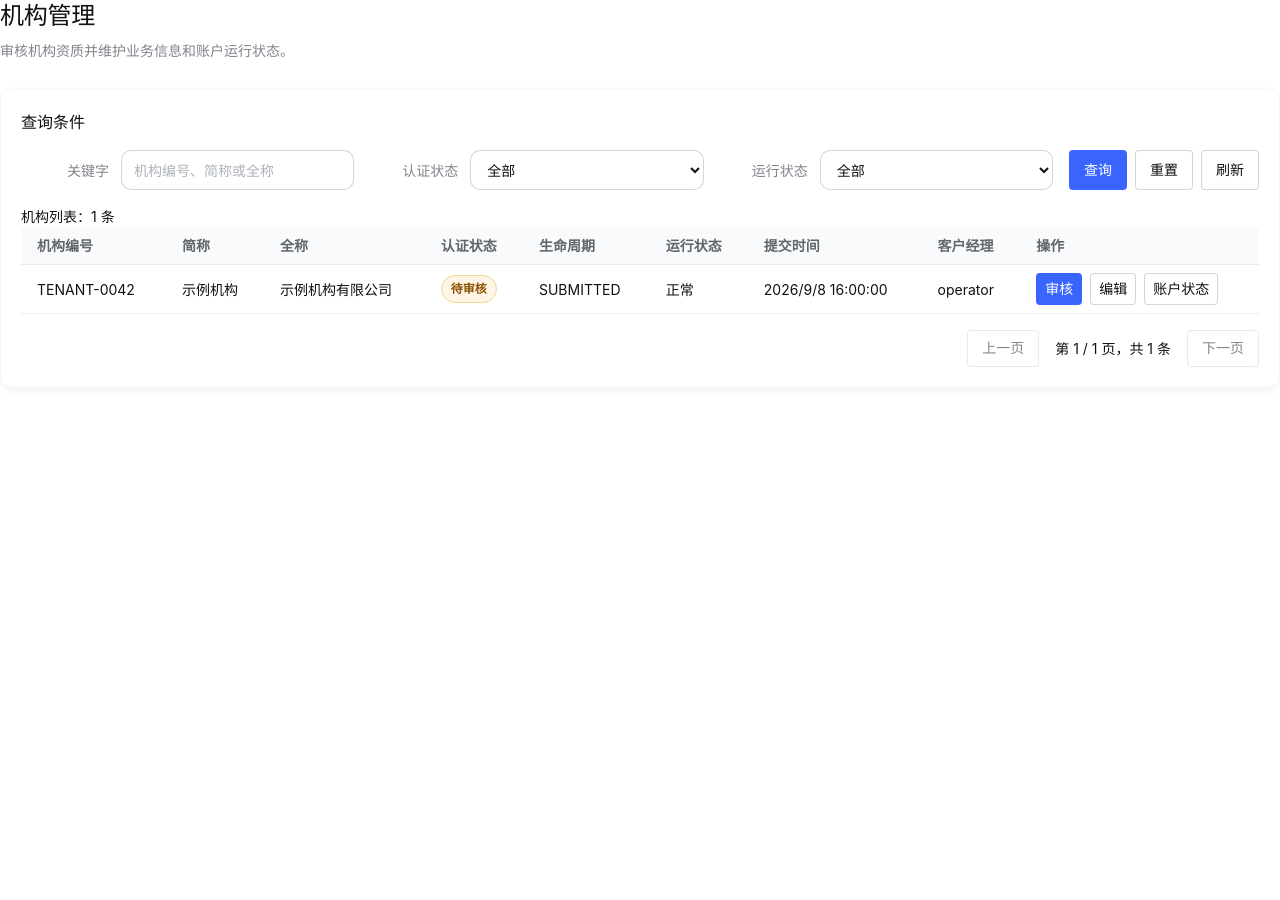
Test case: Phase 08 tenant qualification production UI › shows permission-scoped admin actions and submits an attributable human-confirmed decision
Check: the row with test id "admin-tenant-qualification-tenants-row" is shown, box [21,264,1259,314]
Click the button with test id "admin-tenant-qualification-tenants-review-open". click: (1059, 289)
box: [1036,273,1082,305]
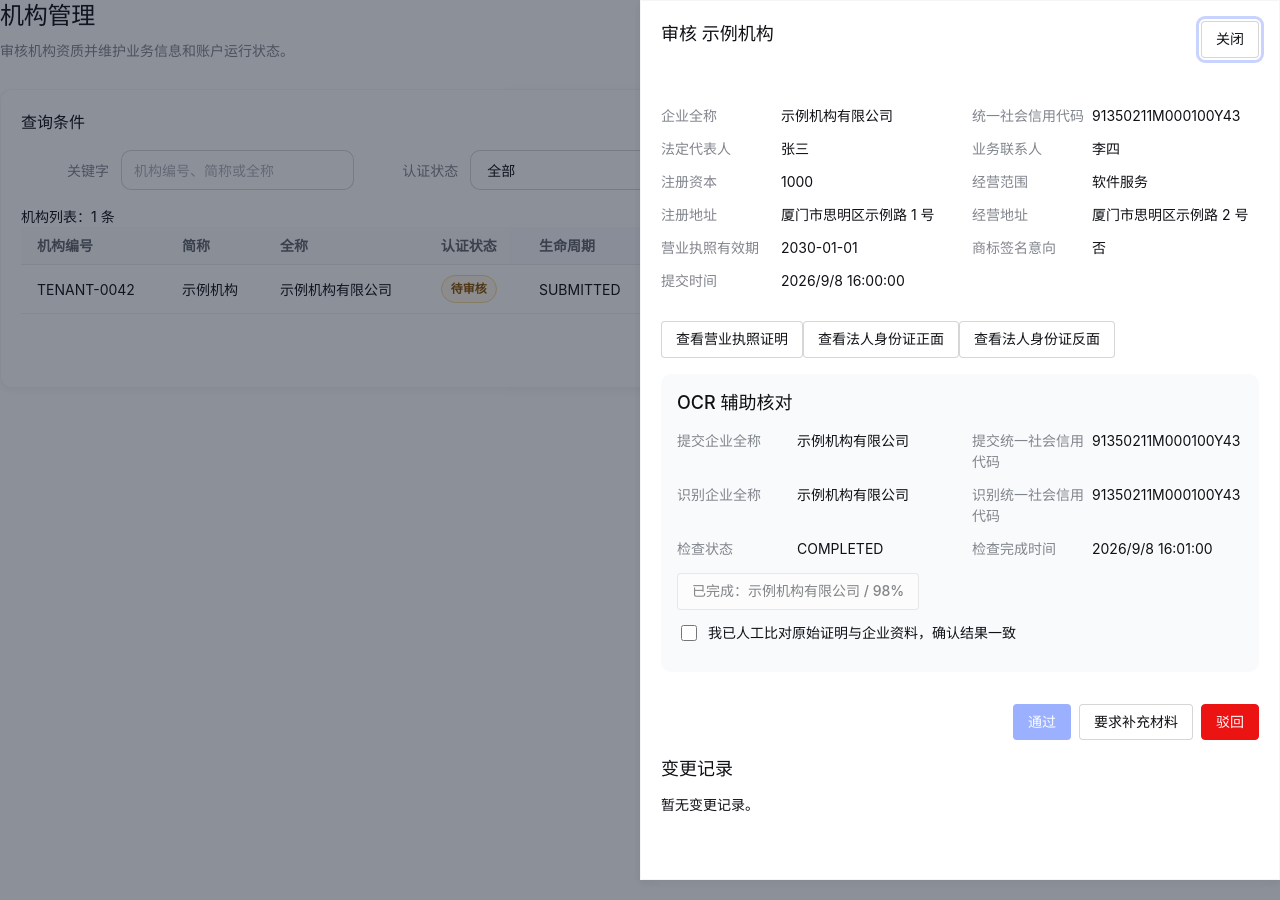
Check: the button with test id "admin-tenant-qualification-tenants-review-ocr-status" shows "已完成", box [677,573,919,610]
Click the checkbox with test id "admin-tenant-qualification-tenants-review-human-confirmed". click: (689, 633)
box: [681,625,697,641]
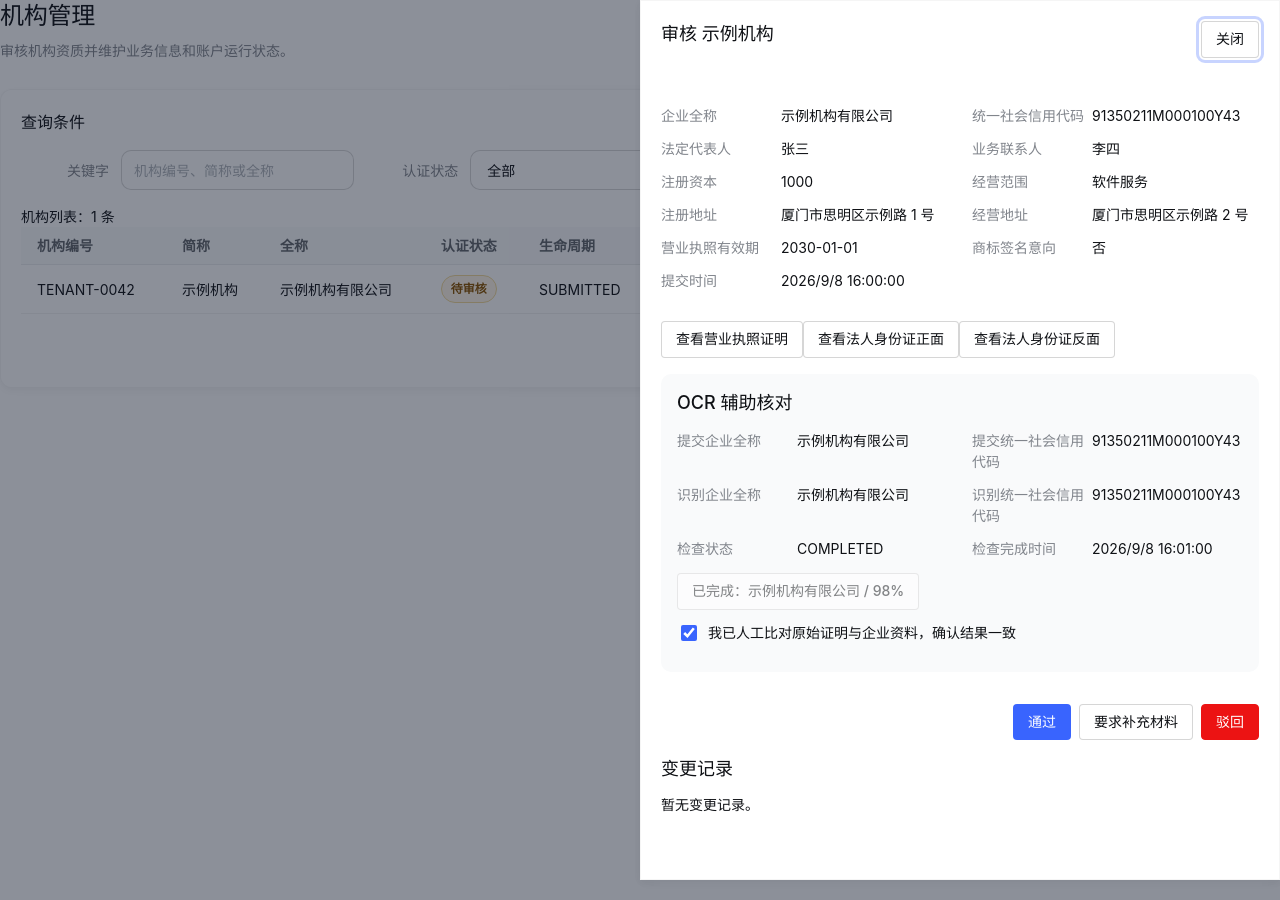
Click the button with test id "admin-tenant-qualification-tenants-review-approve-open". click: (1042, 722)
box: [1013,704,1071,740]
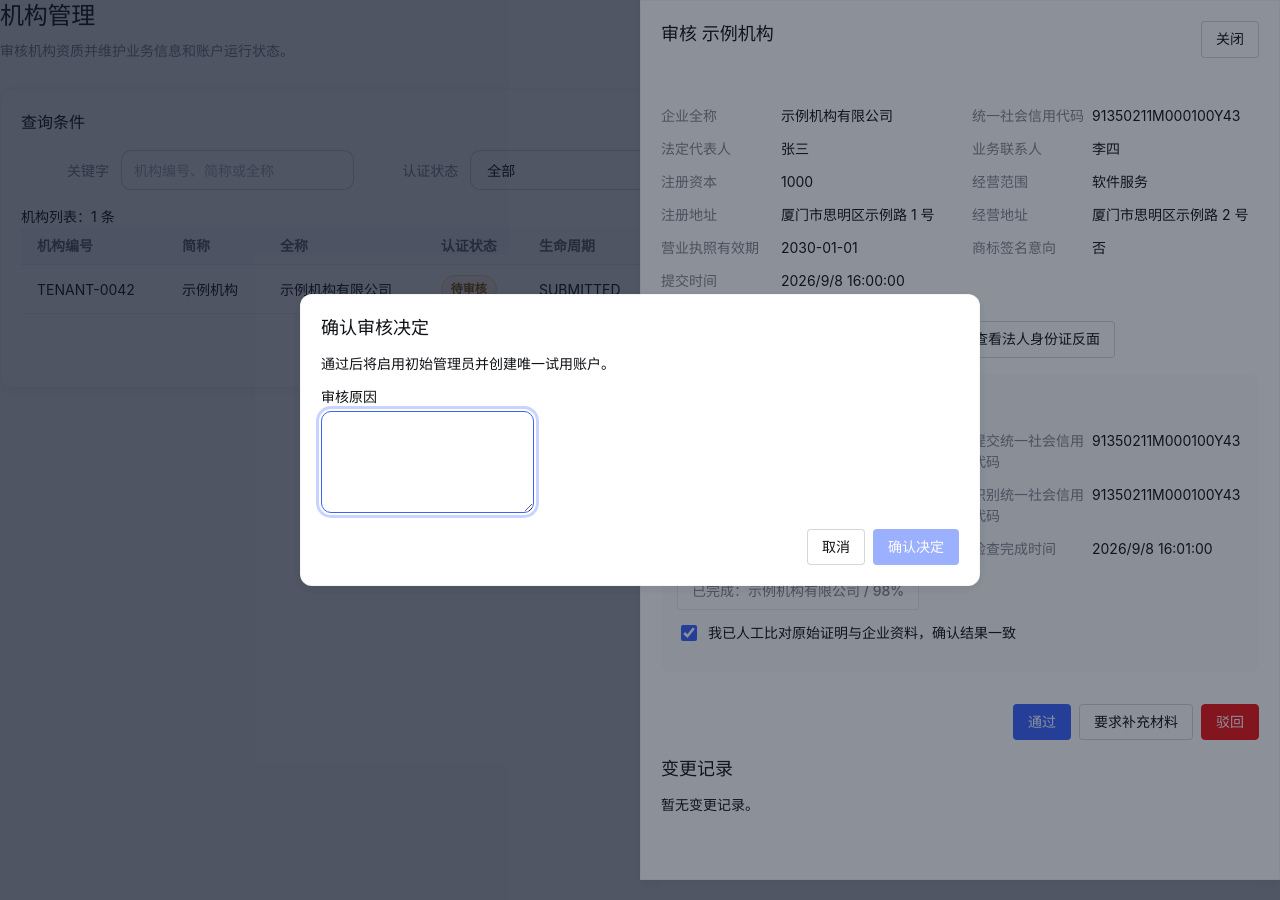
Type "资料核对一致" into the text box with test id "admin-tenant-qualification-tenants-review-decision-reason". click: (428, 462)
box: [321,411,534,513]
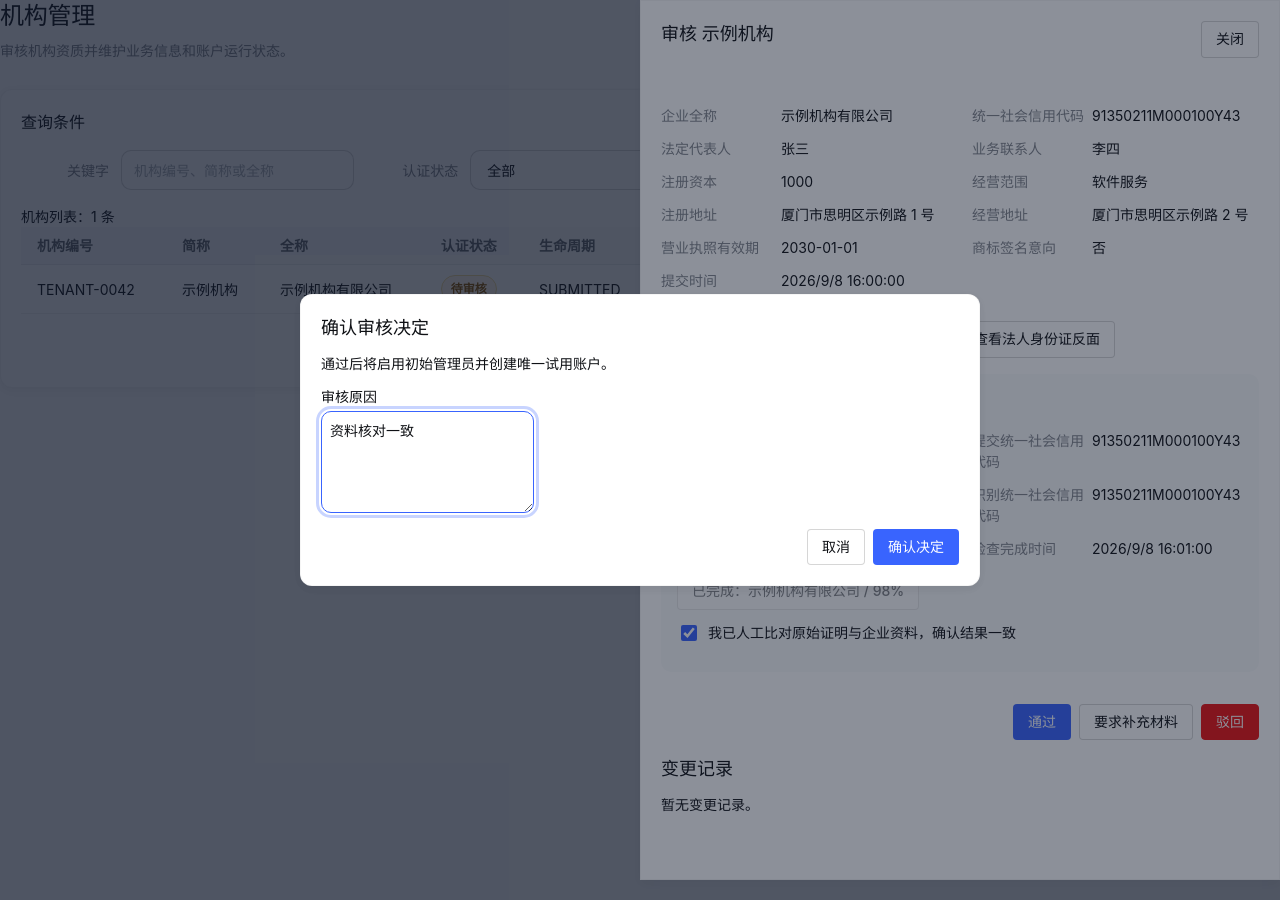
Click the button with test id "admin-tenant-qualification-tenants-review-decision-confirm". click: (916, 547)
box: [873,529,959,565]
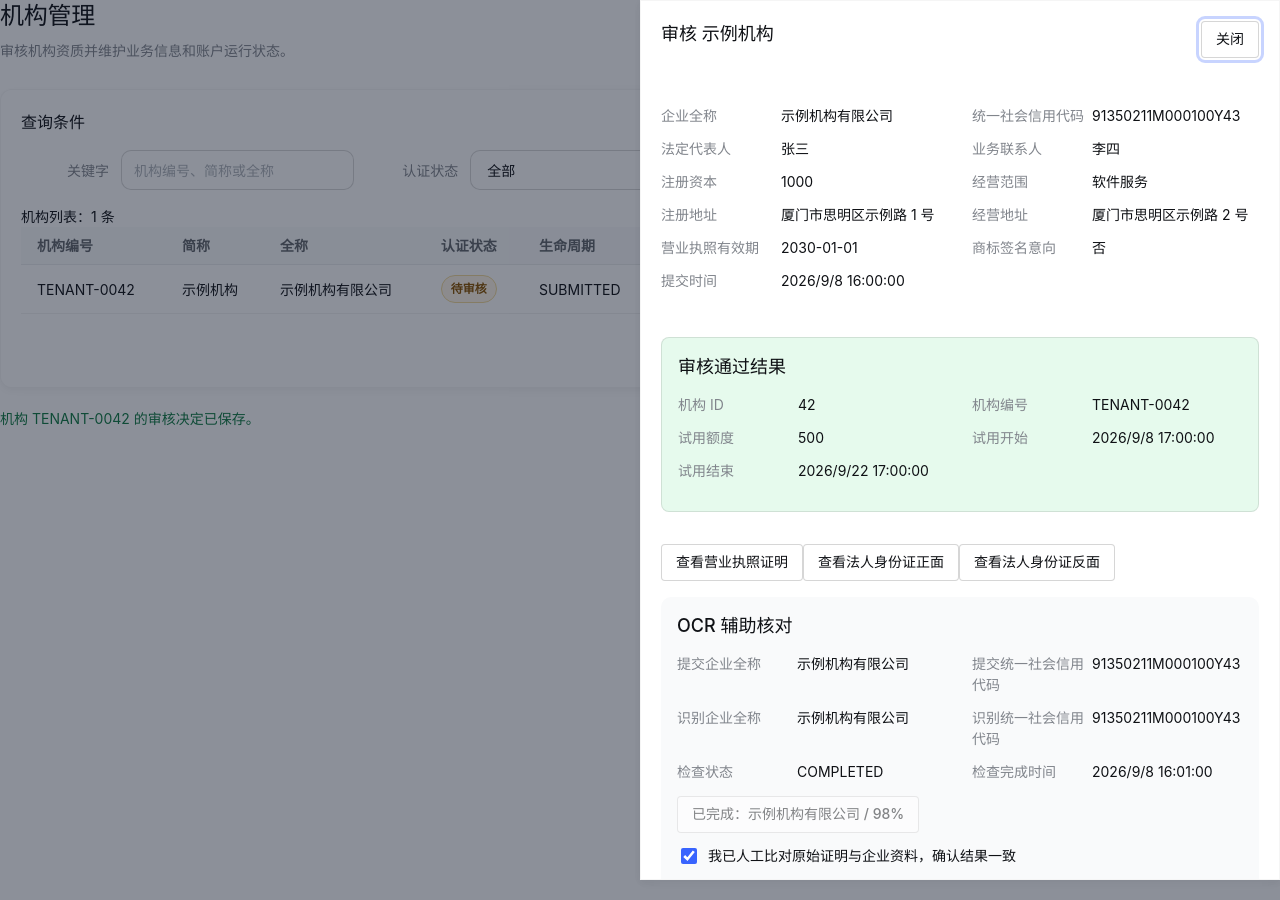
Check: the text with test id "admin-tenant-qualification-tenants-approval-result-tenant-id" reads "42", box [798,396,816,413]
Check: the text with test id "admin-tenant-qualification-tenants-approval-result-tenant-no" reads "TENANT-0042", box [1092,396,1190,413]
Check: the text with test id "admin-tenant-qualification-tenants-approval-result-trial-quota" reads "500", box [798,429,824,446]
